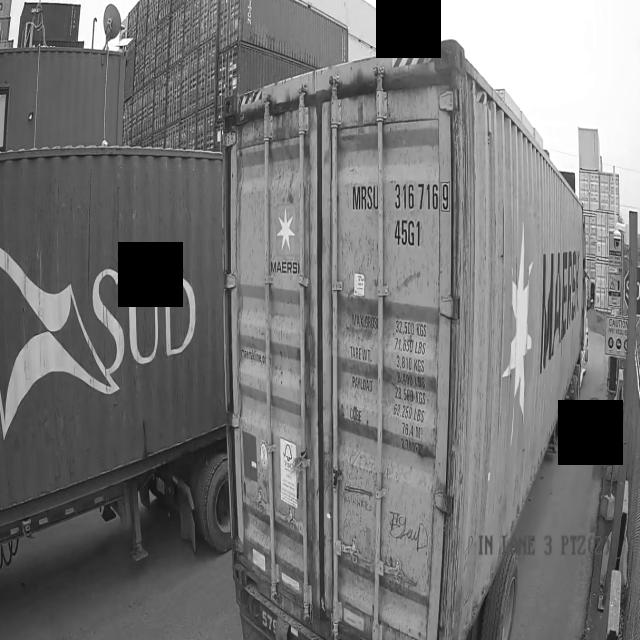container_company_logo: (261, 203, 305, 283)
container_number: (350, 171, 452, 255)
other_container_info: (349, 305, 440, 466)
truck_with_container: (210, 39, 595, 640), (0, 146, 230, 558)
